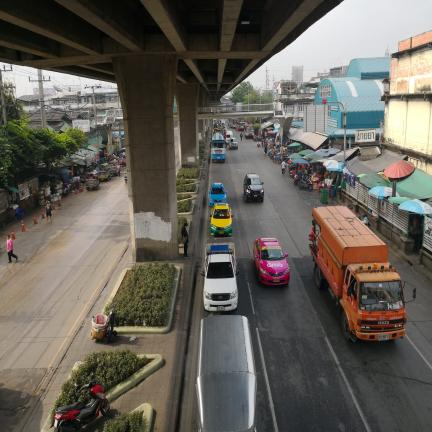bus: (211, 132, 226, 163), (244, 122, 254, 138), (235, 118, 245, 131), (228, 118, 235, 128)
car: (210, 204, 232, 236), (244, 173, 264, 202), (208, 182, 227, 206), (229, 138, 238, 149)
human: (181, 222, 189, 258), (7, 235, 17, 263), (45, 198, 52, 224), (297, 165, 303, 180), (281, 160, 286, 175), (264, 143, 267, 157), (117, 163, 120, 176), (121, 156, 124, 166), (240, 132, 243, 141)
motorbike: (54, 380, 110, 432), (298, 177, 313, 191), (359, 213, 370, 228), (62, 182, 69, 196), (293, 174, 299, 186), (289, 170, 297, 178), (124, 171, 127, 182), (257, 141, 261, 147), (75, 384, 77, 386)
pickup: (228, 137, 238, 149)
taxi: (253, 237, 290, 284)
truck: (309, 206, 406, 341), (201, 238, 239, 311), (86, 170, 100, 191), (98, 163, 111, 181), (109, 161, 119, 176), (227, 137, 238, 149), (413, 288, 416, 299)
van: (196, 315, 257, 432), (226, 130, 233, 142)
